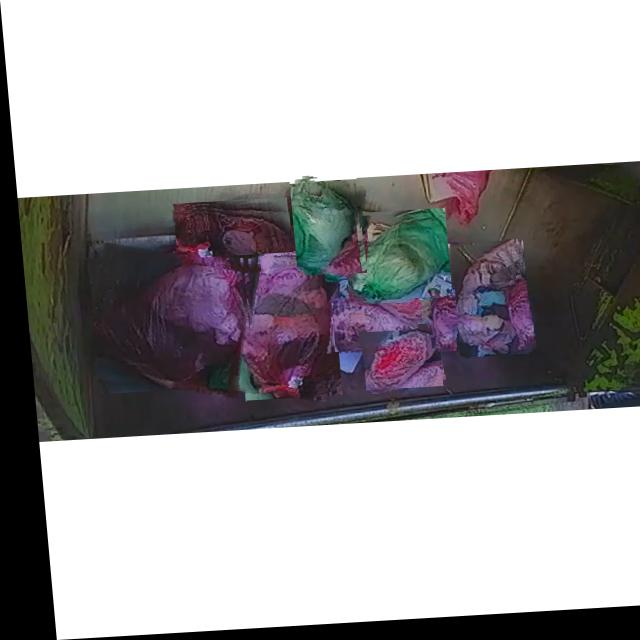general_trashbag: (345, 220, 444, 305), (291, 183, 356, 277)
other_trashbag: (88, 262, 241, 390), (234, 230, 325, 398), (451, 249, 513, 362), (170, 210, 288, 257), (325, 303, 414, 352), (363, 335, 430, 396), (426, 291, 468, 356)
